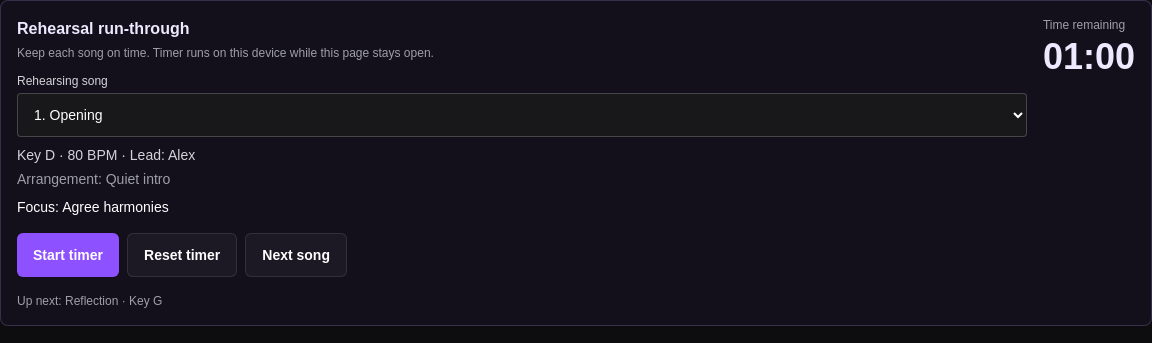
Test case: rehearsal run-through › uses elapsed clock time after delayed ticks and shows overtime
Click the button "Start timer" at (68, 255), box [17,233,119,277]
Wait 250 ms
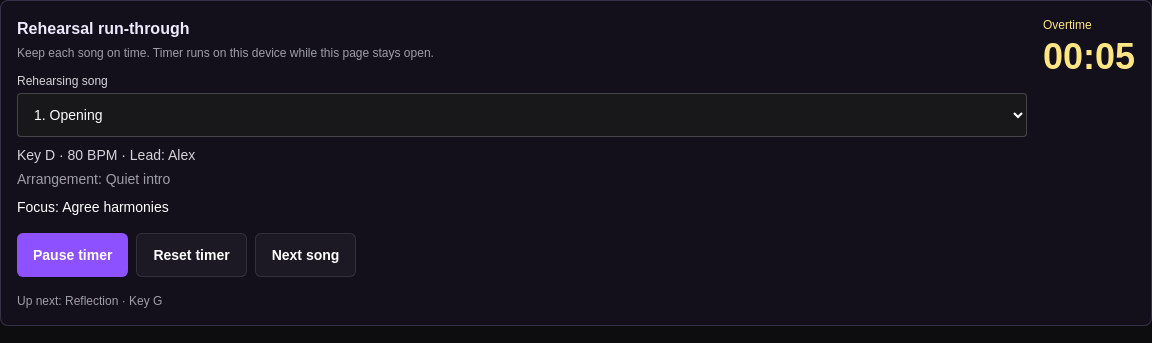
Expected: the button "Pause timer" is enabled, [17,233,128,277]
Now the text "00:05" is shown, box [1043,37,1135,77]
Now the text "Overtime" is shown, box [1043,18,1092,32]
